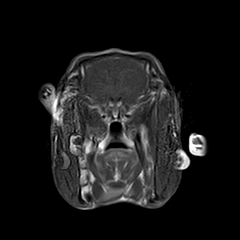Brain: (67, 24, 166, 122)
